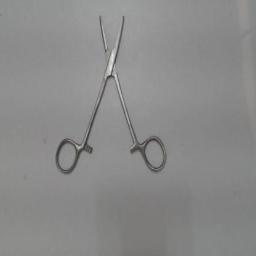Mayo Needle Holder: (52, 4, 170, 176)
